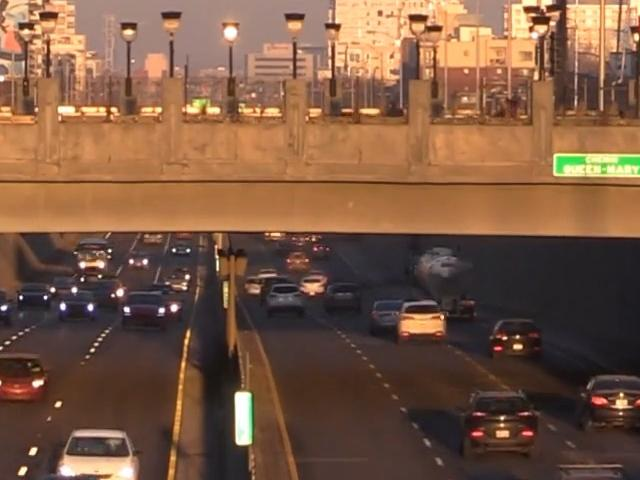bus: (67, 233, 111, 280), (265, 272, 298, 299), (418, 246, 456, 268), (287, 234, 319, 247), (174, 232, 195, 244)
car: (455, 384, 541, 460), (56, 426, 138, 480), (577, 373, 640, 435), (0, 355, 57, 403), (396, 297, 450, 345), (486, 320, 544, 359), (534, 460, 640, 480), (121, 288, 168, 332), (81, 276, 129, 311), (367, 299, 410, 336), (266, 285, 307, 317), (59, 291, 97, 323), (330, 281, 363, 313), (246, 270, 281, 296), (444, 295, 477, 321), (164, 267, 193, 294), (298, 274, 328, 297), (23, 284, 49, 307), (0, 288, 13, 327), (285, 252, 311, 271), (140, 232, 166, 247), (169, 242, 194, 257), (126, 254, 151, 269), (263, 230, 287, 242), (310, 244, 330, 257)
